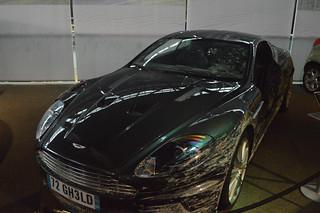front-bumper-dent: (82, 168, 227, 212)
